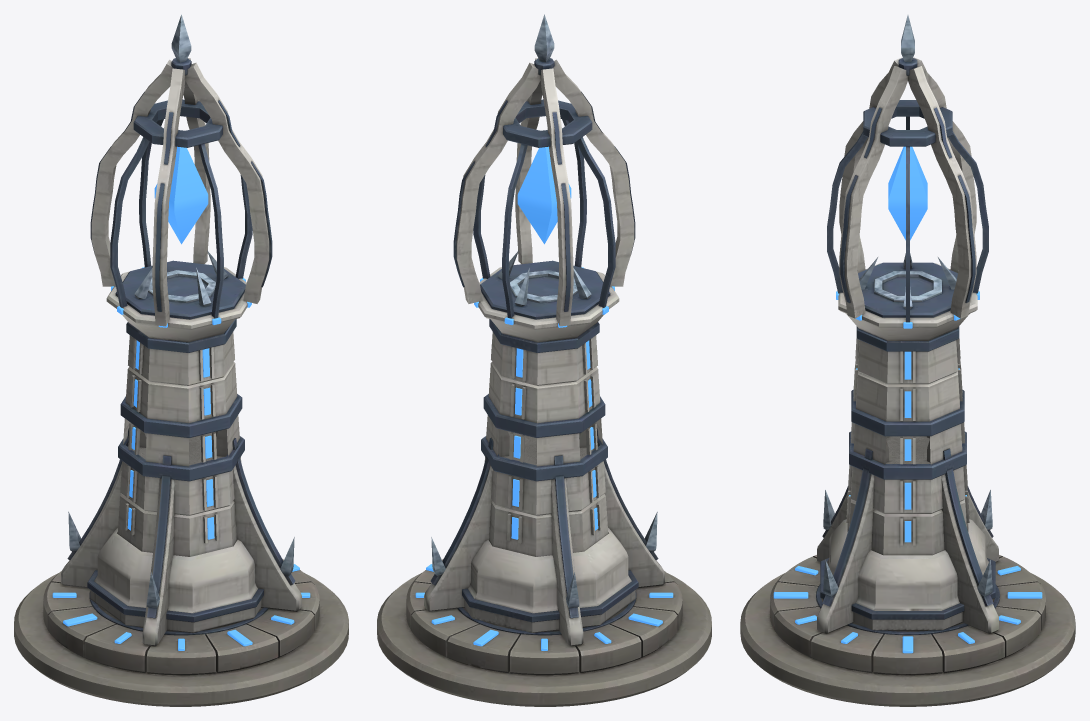
Rendered from needle_outer_aubade.glb.
The picture shows the model from 3 angles, left to right: view 1: azimuth 30°, elevation 25°; view 2: azimuth 150°, elevation 25°; view 3: azimuth 270°, elevation 25°; orthographic projection.
Visible parts, largest first — view 1: needle_outer_aubade_body, needle_outer_aubade_glow, needle_outer_aubade_core; view 2: needle_outer_aubade_body, needle_outer_aubade_glow, needle_outer_aubade_core; view 3: needle_outer_aubade_body, needle_outer_aubade_glow, needle_outer_aubade_core.
Part boxes in pixels (box(x1,y1,x2,y2)): needle_outer_aubade_body: box(14, 14, 348, 706); needle_outer_aubade_glow: box(52, 267, 310, 650); needle_outer_aubade_core: box(154, 146, 208, 244); needle_outer_aubade_body: box(377, 14, 711, 706); needle_outer_aubade_glow: box(415, 267, 673, 650); needle_outer_aubade_core: box(517, 146, 571, 244); needle_outer_aubade_body: box(740, 15, 1075, 706); needle_outer_aubade_glow: box(773, 291, 1042, 653); needle_outer_aubade_core: box(888, 146, 927, 240).
Size of the model in its own units: 3.64 by 7.48 by 3.64.
2 materials, 1 textured.
